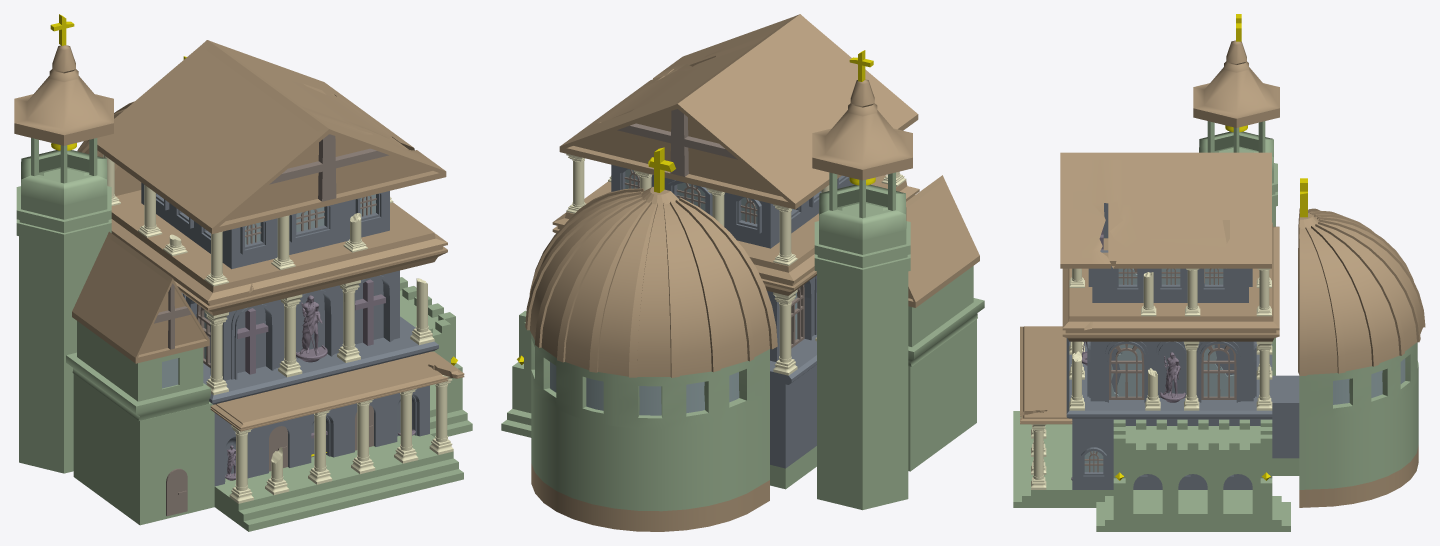
File: church.fbx
The picture shows the model from 3 angles, left to right: view 1: azimuth 30°, elevation 25°; view 2: azimuth 150°, elevation 25°; view 3: azimuth 270°, elevation 25°; orthographic projection. The views are drawn at different scales.
Parts seen in each view (by area): view 1: Roof (×2), pCylinder1, SecondRoof, SideBuildFirstFloor, MainSteps, FirstRoof, SecondFloorFrontWall, SideBuildFloor2, FirstFloorWall, pCylinder2, ThirdFloorWall, F2Swall (+23 smaller); view 2: Roof (×2), ChapelsRoof, pCylinder1, ChapelsWall1, ChapelsWall2, SideBuildFirstFloor, pCylinder2, ChapelsBase, SideBuildFloor2, SecondRoof, FirstFloorWall, ThirdFloorWall (+12 smaller); view 3: Roof, ChapelsRoof, SecondRoof, ChapelsWall1, CloisterSteps, F2Swall, MainSteps, CloisterColonettes1, CloisterArch2, FirstFloorWall, FirstRoof, ChapelsWall2 (+19 smaller).
Part boxes in pixels (bbox=[...]): Roof (×2): bbox=[72, 40, 446, 363]; pCylinder1: bbox=[16, 138, 111, 473]; SecondRoof: bbox=[111, 190, 447, 315]; SideBuildFirstFloor: bbox=[73, 374, 214, 525]; MainSteps: bbox=[214, 434, 463, 531]; FirstRoof: bbox=[210, 351, 464, 431]; SecondFloorFrontWall: bbox=[222, 270, 399, 380]; SideBuildFloor2: bbox=[66, 321, 210, 421]; FirstFloorWall: bbox=[214, 385, 429, 486]; pCylinder2: bbox=[14, 45, 113, 145]; ThirdFloorWall: bbox=[228, 191, 389, 269]; F2Swall: bbox=[203, 316, 438, 428]; Roof (×2): bbox=[559, 14, 979, 307]; ChapelsRoof: bbox=[525, 187, 777, 377]; pCylinder1: bbox=[814, 172, 910, 510]; ChapelsWall1: bbox=[531, 381, 769, 511]; ChapelsWall2: bbox=[531, 334, 769, 428]; SideBuildFirstFloor: bbox=[908, 319, 976, 471]; pCylinder2: bbox=[812, 79, 912, 180]; ChapelsBase: bbox=[531, 463, 769, 531]; SideBuildFloor2: bbox=[908, 266, 984, 366]; SecondRoof: bbox=[552, 175, 919, 295]; FirstFloorWall: bbox=[770, 388, 816, 468]; ThirdFloorWall: bbox=[611, 164, 773, 248]; Roof: bbox=[1060, 152, 1271, 268]; ChapelsRoof: bbox=[1298, 208, 1425, 376]; SecondRoof: bbox=[1062, 222, 1279, 341]; ChapelsWall1: bbox=[1299, 375, 1418, 489]; CloisterSteps: bbox=[1096, 490, 1290, 531]; F2Swall: bbox=[1066, 338, 1272, 439]; MainSteps: bbox=[1013, 411, 1299, 507]; CloisterColonettes1: bbox=[1113, 419, 1272, 454]; CloisterArch2: bbox=[1125, 454, 1260, 513]; FirstFloorWall: bbox=[1072, 360, 1299, 489]; FirstRoof: bbox=[1020, 326, 1072, 424]; ChapelsWall2: bbox=[1299, 342, 1418, 418].
Size of the model in its own units: 1306 by 1441 by 1423.
